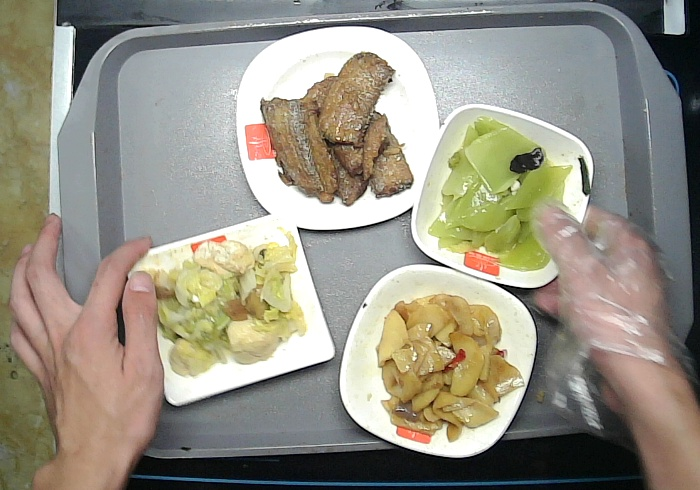SHKJ-Bai_Se_Cai_Die: (339, 265, 537, 457)
SHKJ-Bai_Se_Si_Fang_Cai_Die: (235, 26, 441, 229)
SHKJ-Bai_Se_Xiao_Fang_Die: (410, 104, 593, 288)
SHKJ-Si_Fang_Min: (122, 211, 336, 405)
